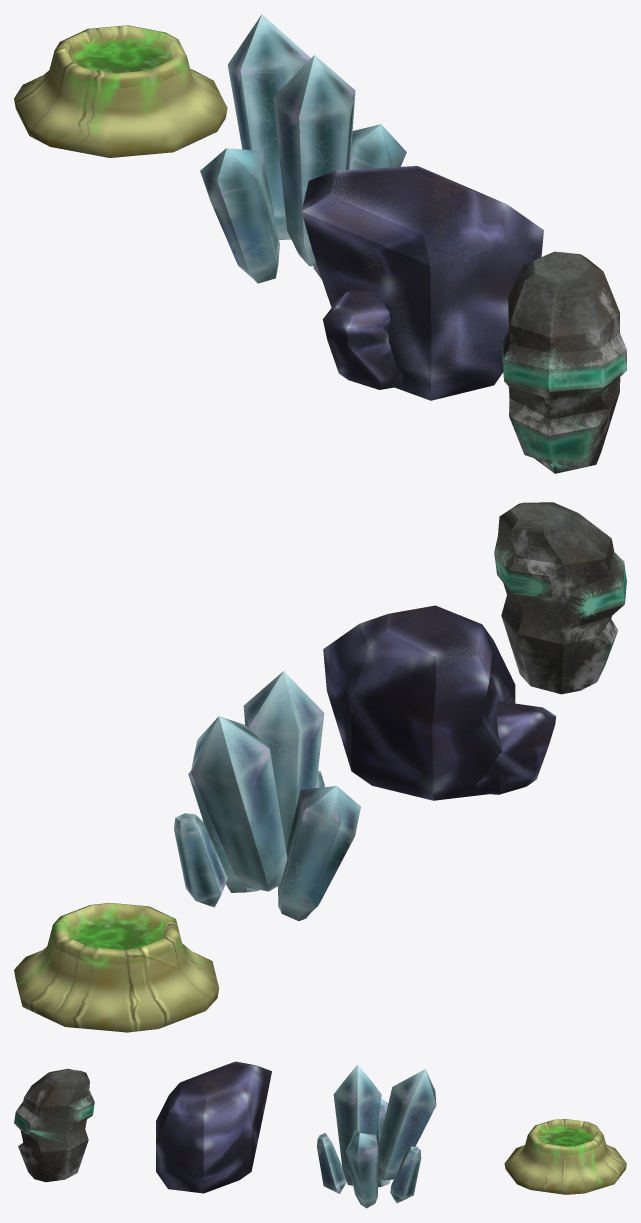
The model's file is resources.fbx.
The picture shows the model from 3 angles, top to bottom: view 1: azimuth 30°, elevation 25°; view 2: azimuth 150°, elevation 25°; view 3: azimuth 270°, elevation 25°; orthographic projection. The views are drawn at different scales.
Parts seen in each view (by area): view 1: pCylinder4, pCylinder7, pCylinder6, pCylinder1, pCylinder9, pCylinder3, pCylinder12, pCylinder10; view 2: pCylinder4, pCylinder6, pCylinder7, pCylinder9, pCylinder3, pCylinder1, pCylinder12, pCylinder11, pCylinder10; view 3: pCylinder4, pCylinder7, pCylinder6, pCylinder9, pCylinder1, pCylinder10, pCylinder11, pCylinder8, pCylinder3.
Boxes of the visible parts, <box> form: pCylinder4: <box>301,166,543,400</box>; pCylinder7: <box>502,251,626,473</box>; pCylinder6: <box>14,25,227,157</box>; pCylinder1: <box>273,55,355,266</box>; pCylinder9: <box>228,14,310,239</box>; pCylinder3: <box>200,148,279,283</box>; pCylinder12: <box>323,291,403,389</box>; pCylinder10: <box>349,124,406,169</box>; pCylinder4: <box>323,605,515,800</box>; pCylinder6: <box>14,903,219,1032</box>; pCylinder7: <box>494,502,626,694</box>; pCylinder9: <box>191,716,287,891</box>; pCylinder3: <box>278,786,360,920</box>; pCylinder1: <box>243,671,324,849</box>; pCylinder12: <box>476,701,556,794</box>; pCylinder11: <box>174,813,227,907</box>; pCylinder10: <box>188,771,259,892</box>; pCylinder4: <box>156,1061,271,1193</box>; pCylinder7: <box>14,1068,94,1182</box>; pCylinder6: <box>504,1119,626,1194</box>; pCylinder9: <box>378,1069,436,1180</box>; pCylinder1: <box>333,1064,381,1185</box>; pCylinder10: <box>346,1130,378,1208</box>; pCylinder11: <box>390,1146,421,1203</box>; pCylinder8: <box>317,1133,346,1193</box>; pCylinder3: <box>376,1098,390,1187</box>.
Bounding box in the file's own units: 1.9 × 1.83 × 7.7.
1 material, 1 textured.
